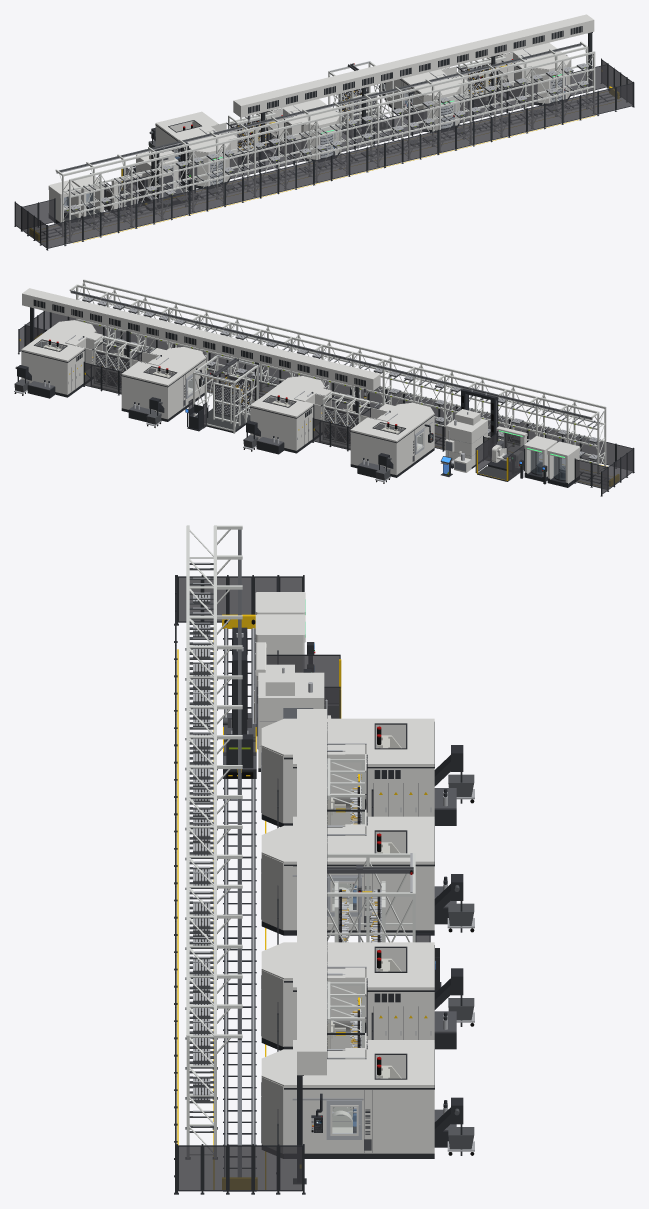
File: fms_line_4hmc_white.glb
3 renders of one model, top to bottom at view 1: azimuth 30°, elevation 25°; view 2: azimuth 150°, elevation 25°; view 3: azimuth 270°, elevation 25°, orthographic. The views are drawn at different scales.
Visible parts, largest first — view 1: RACK_rack_frame__truss_white, FB_fence__mesh, TG_tg_beam__hmc_white, FB_fence__anthracite, RACK_rack_frame__steel_dark, TG_tg_beam__anthracite, MT1_enclosure__hmc_white, MT3_enclosure__hmc_white, RACK_rack_frame__steel, FG6_fence__mesh, FG5_fence__mesh, FG7_fence__mesh (+19 smaller); view 2: RACK_rack_frame__truss_white, TG_tg_beam__hmc_white, FB_fence__mesh, MT1_enclosure__hmc_white, MT3_enclosure__hmc_white, MT2_enclosure__hmc_white, MT4_enclosure__hmc_white, RACK_rack_frame__steel_dark, CTR_ctr_frame__truss_white, TG_tg_beam__anthracite, WASH_wash_cabinet__hmc_white, RACK_rack_frame__steel (+35 smaller); view 3: MT4_enclosure__hmc_white, RACK_rack_frame__truss_white, TG_tg_beam__hmc_white, MT2_enclosure__hmc_white, RACK_rack_frame__steel_dark, MT1_enclosure__hmc_white, MT3_enclosure__hmc_white, FE47_fence__mesh, trk_track__steel_dark, WASH_wash_cabinet__hmc_white, MT2_apc_housing__hmc_white, MT1_apc_housing__hmc_white (+28 smaller).
Part boxes in pixels (left/top/right/bottom): RACK_rack_frame__truss_white: left=55, top=41, right=595, bottom=241; FB_fence__mesh: left=48, top=83, right=632, bottom=247; TG_tg_beam__hmc_white: left=233, top=14, right=594, bottom=117; FB_fence__anthracite: left=47, top=82, right=634, bottom=250; RACK_rack_frame__steel_dark: left=56, top=43, right=589, bottom=227; TG_tg_beam__anthracite: left=248, top=26, right=592, bottom=165; MT1_enclosure__hmc_white: left=155, top=111, right=237, bottom=174; MT3_enclosure__hmc_white: left=385, top=67, right=467, bottom=125; RACK_rack_frame__steel: left=56, top=45, right=587, bottom=218; FG6_fence__mesh: left=341, top=109, right=427, bottom=151; FG5_fence__mesh: left=229, top=138, right=307, bottom=178; FG7_fence__mesh: left=459, top=82, right=537, bottom=122; RACK_rack_frame__truss_white: left=69, top=279, right=606, bottom=473; TG_tg_beam__hmc_white: left=22, top=288, right=380, bottom=390; FB_fence__mesh: left=51, top=312, right=632, bottom=469; MT1_enclosure__hmc_white: left=350, top=404, right=432, bottom=475; MT3_enclosure__hmc_white: left=121, top=348, right=203, bottom=419; MT2_enclosure__hmc_white: left=250, top=379, right=331, bottom=450; MT4_enclosure__hmc_white: left=21, top=323, right=102, bottom=394; RACK_rack_frame__steel_dark: left=70, top=290, right=600, bottom=461; CTR_ctr_frame__truss_white: left=193, top=355, right=258, bottom=433; TG_tg_beam__anthracite: left=30, top=299, right=365, bottom=425; WASH_wash_cabinet__hmc_white: left=445, top=409, right=487, bottom=472; RACK_rack_frame__steel: left=70, top=292, right=596, bottom=460; MT4_enclosure__hmc_white: left=293, top=1040, right=434, bottom=1153; RACK_rack_frame__truss_white: left=186, top=525, right=242, bottom=1157; TG_tg_beam__hmc_white: left=297, top=709, right=326, bottom=1075; MT2_enclosure__hmc_white: left=293, top=816, right=434, bottom=930; RACK_rack_frame__steel_dark: left=185, top=529, right=241, bottom=1158; MT1_enclosure__hmc_white: left=293, top=718, right=434, bottom=825; MT3_enclosure__hmc_white: left=293, top=942, right=434, bottom=1049; FE47_fence__mesh: left=179, top=1146, right=276, bottom=1190; trk_track__steel_dark: left=224, top=628, right=255, bottom=1176; WASH_wash_cabinet__hmc_white: left=258, top=664, right=330, bottom=768; MT2_apc_housing__hmc_white: left=261, top=825, right=292, bottom=930; MT1_apc_housing__hmc_white: left=261, top=718, right=292, bottom=823.
Bounding box in the file's own units: 49.56 × 5.4 × 11.05.
31 materials, 2 textured.
